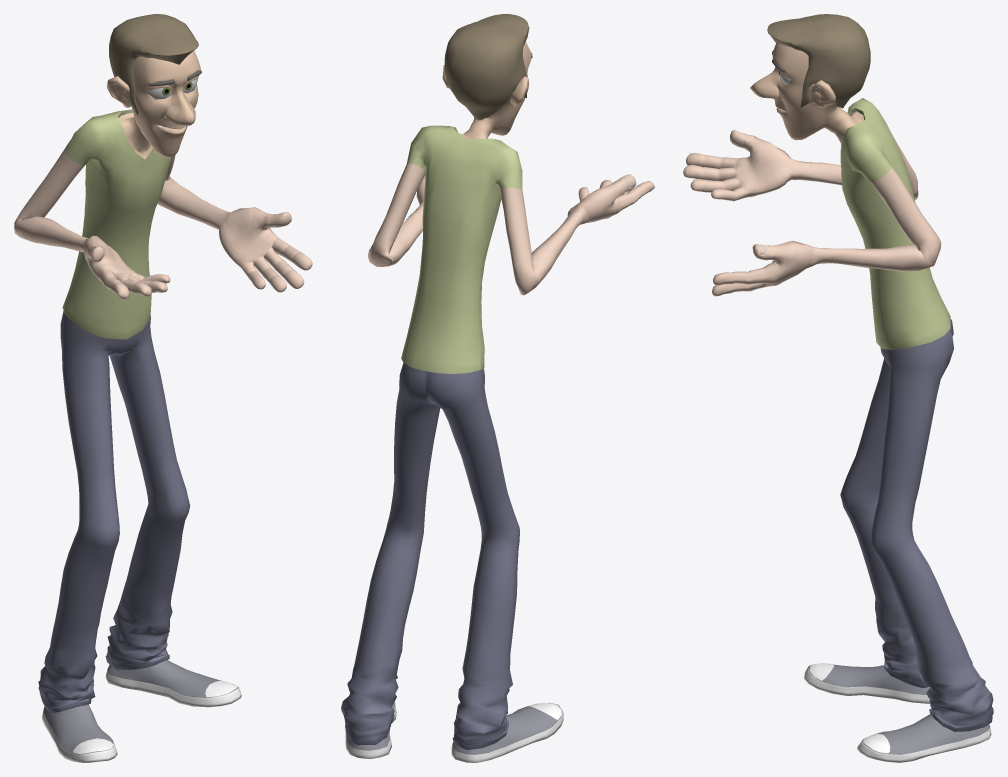
The model's file is friend_okayAnswer.fbx.
3 views of the same model, side by side, from view 1: azimuth 30°, elevation 25°; view 2: azimuth 150°, elevation 25°; view 3: azimuth 270°, elevation 25° (orthographic). The views are drawn at different scales.
Parts seen in each view (by area): view 1: fkFootMatchRt; view 2: fkFootMatchRt; view 3: fkFootMatchRt.
Part boxes in pixels (x1,y1,x2,y2): fkFootMatchRt: (14, 14, 312, 762); fkFootMatchRt: (341, 14, 654, 762); fkFootMatchRt: (683, 14, 993, 762).
Bounding box in the file's own units: 2.69 × 8.37 × 3.41.
